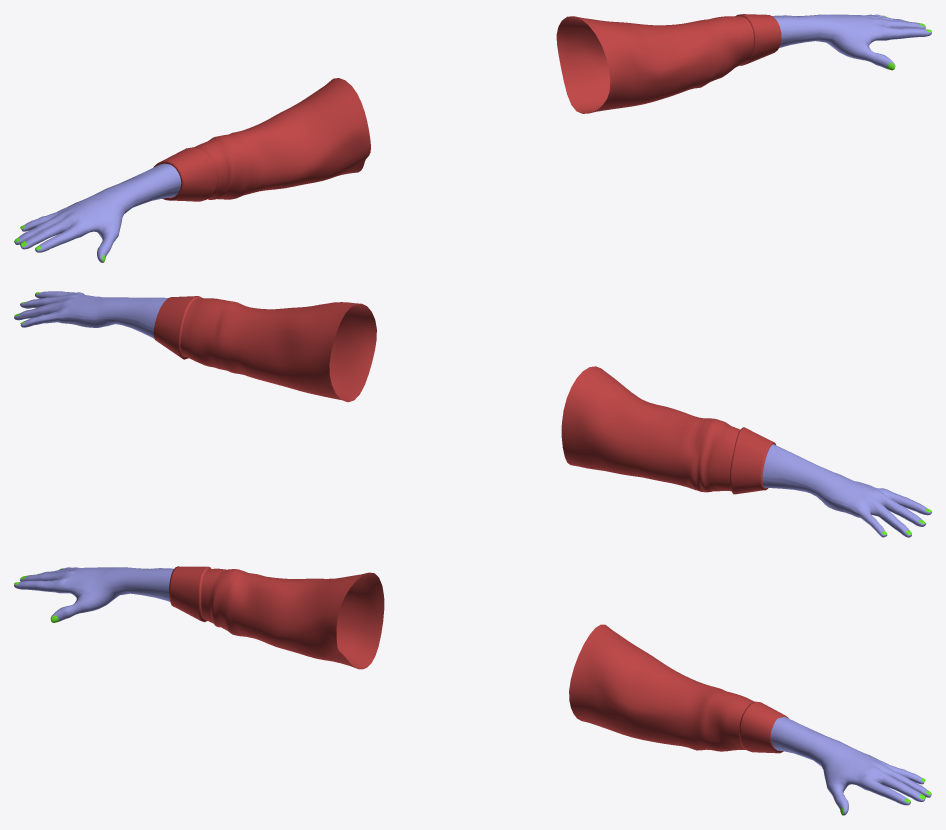
The model's file is ArmsLP.fbx.
3 views of the same model, one above another, from view 1: azimuth 30°, elevation 25°; view 2: azimuth 150°, elevation 25°; view 3: azimuth 330°, elevation 25° (orthographic).
Visible parts, largest first — view 1: Extract18, Plane; view 2: Extract18, Plane; view 3: Extract18, Plane.
Part boxes in pixels (x1,y1,x2,y2): Extract18: (153, 14, 781, 201); Plane: (14, 14, 931, 262); Extract18: (153, 296, 775, 494); Plane: (14, 291, 931, 537); Extract18: (169, 566, 788, 753); Plane: (14, 567, 931, 815).
Size of the model in its own units: 180 by 18.4 by 19.32.
